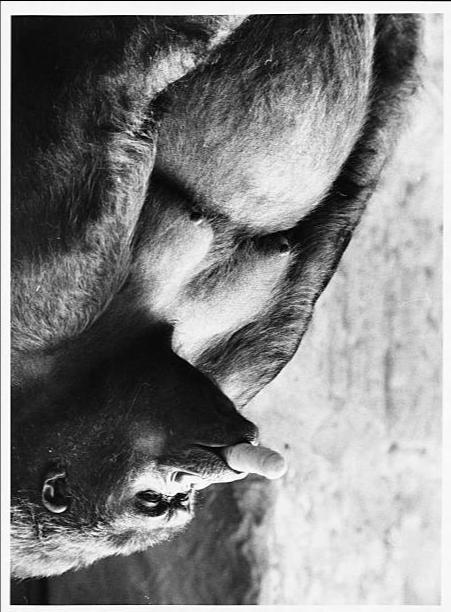gorille_Autres: (0, 4, 392, 609)
